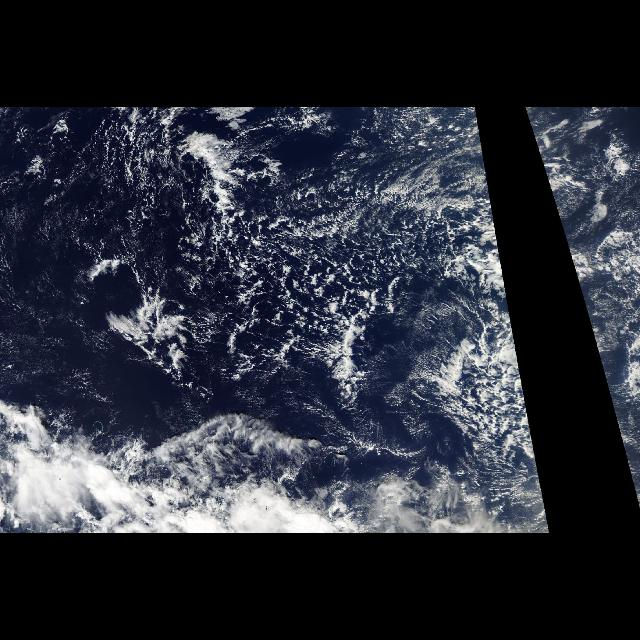Gravel: (121, 111, 536, 459), (525, 110, 557, 214)
Sugar: (1, 107, 148, 419)
